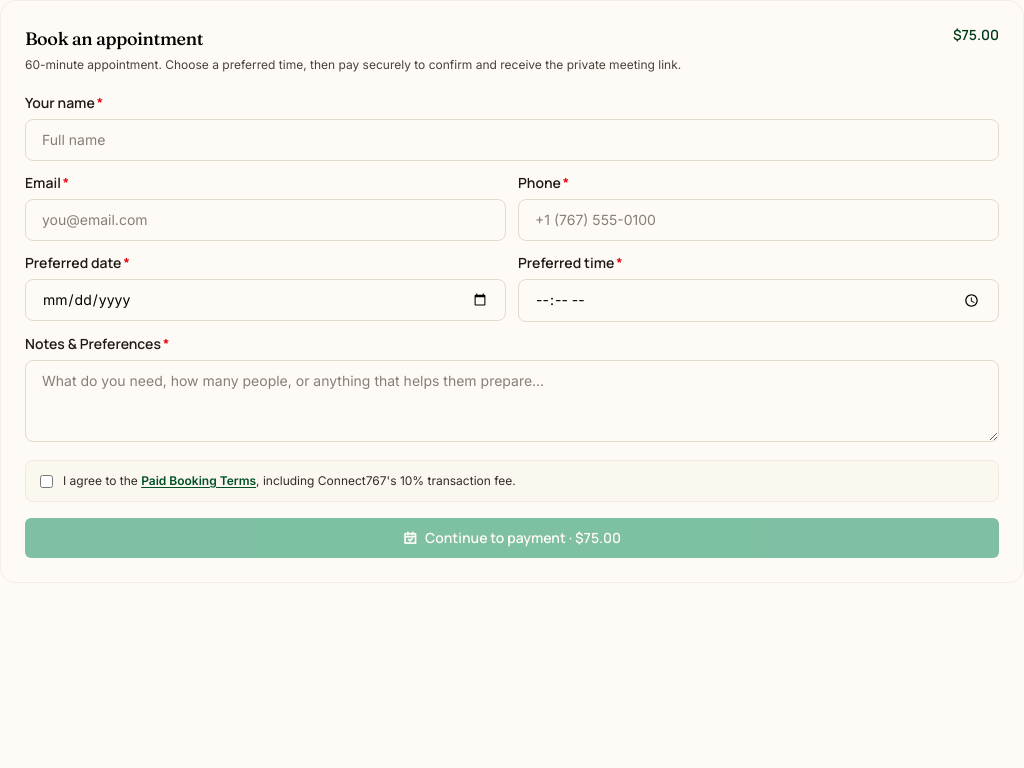
Test: BookingForm › requires acceptance of the 10% transaction-fee terms for paid bookings
Expected: the button "Continue to payment · $75.00" is disabled, [25,518,999,558]
Click the checkbox labelled "10% transaction fee".
click(46, 481)  # box [40,475,53,488]
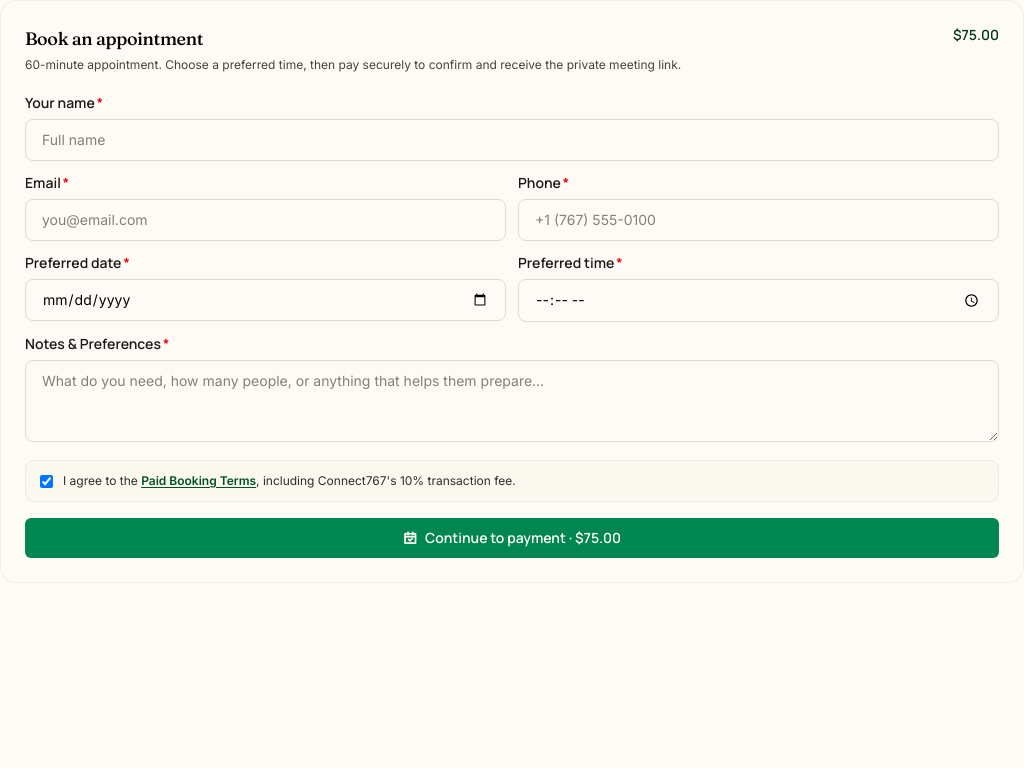
Expected: the checkbox labelled "10% transaction fee" is checked, [40,475,53,488]
Expected: the button "Continue to payment · $75.00" is enabled, [25,518,999,558]
